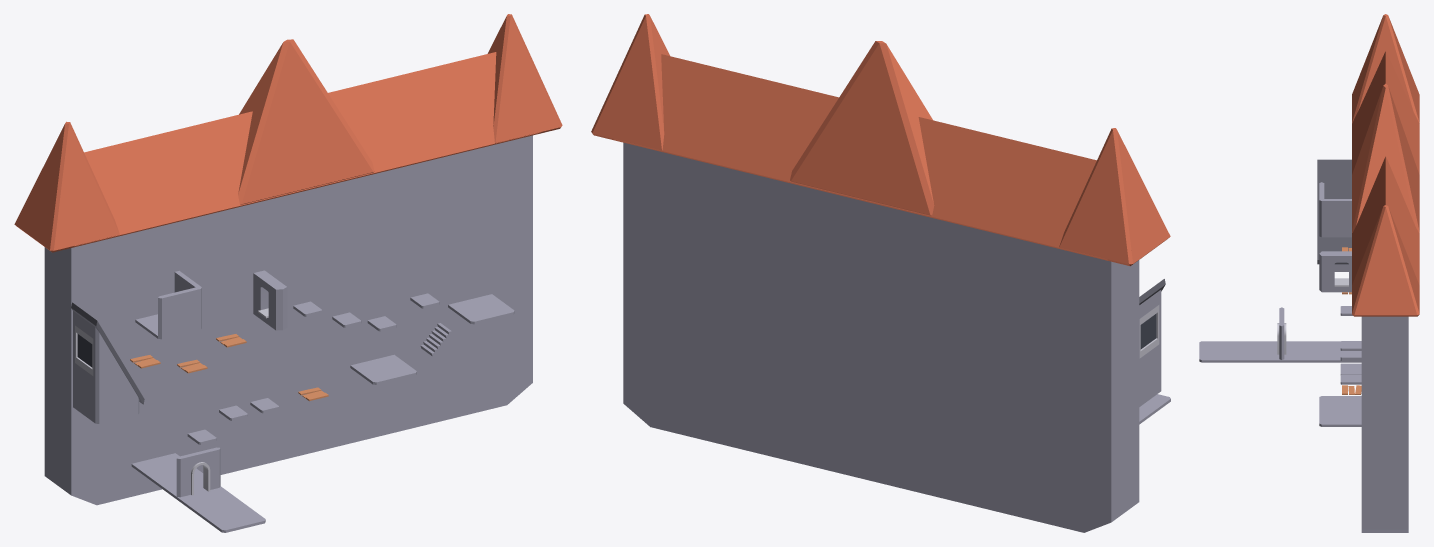
File: Castle Climb.fbx
3 views of the same model, side by side, from view 1: azimuth 30°, elevation 25°; view 2: azimuth 150°, elevation 25°; view 3: azimuth 270°, elevation 25° (orthographic). The views are drawn at different scales.
Parts seen in each view (by area): view 1: floor_square_9, roof_straight_11, roof_point_19, roof_point_17, roof_point_18, roof_factorySlant_33, wall_corner_38, wall_windowSquare_31, wall_doorwayRound_5, floor_square_1, floor_square_26, floor_square_24 (+2 smaller); view 2: floor_square_9, roof_straight_11, roof_point_19, roof_point_17, roof_point_18, roof_factorySlant_33; view 3: floor_square_9, roof_straight_11, roof_point_18, roof_point_19, roof_point_17, roof_factorySlant_33, wall_corner_38, wall_windowSquare_31, floor_square_1, floor_square_26, floor_square_6, floor_square_2 (+3 smaller).
Part boxes in pixels (bbox=[...]): floor_square_9: bbox=[44, 135, 532, 505]; roof_straight_11: bbox=[73, 52, 540, 247]; roof_point_19: bbox=[238, 39, 374, 204]; roof_point_17: bbox=[14, 121, 119, 252]; roof_point_18: bbox=[487, 14, 562, 143]; roof_factorySlant_33: bbox=[71, 302, 144, 423]; wall_corner_38: bbox=[158, 270, 201, 338]; wall_windowSquare_31: bbox=[253, 270, 287, 330]; wall_doorwayRound_5: bbox=[176, 447, 220, 497]; floor_square_1: bbox=[199, 502, 265, 532]; floor_square_26: bbox=[448, 294, 514, 324]; floor_square_24: bbox=[350, 354, 416, 384]; floor_square_9: bbox=[623, 142, 1139, 532]; roof_straight_11: bbox=[614, 54, 1107, 260]; roof_point_19: bbox=[790, 41, 934, 215]; roof_point_17: bbox=[1059, 128, 1170, 266]; roof_point_18: bbox=[591, 14, 669, 150]; roof_factorySlant_33: bbox=[1139, 279, 1165, 406]; floor_square_9: bbox=[1361, 316, 1408, 532]; roof_straight_11: bbox=[1352, 51, 1419, 284]; roof_point_18: bbox=[1352, 205, 1419, 316]; roof_point_19: bbox=[1352, 83, 1419, 232]; roof_point_17: bbox=[1352, 14, 1419, 123]; roof_factorySlant_33: bbox=[1317, 159, 1351, 271]; wall_corner_38: bbox=[1319, 182, 1351, 236]; wall_windowSquare_31: bbox=[1319, 251, 1351, 292]; floor_square_1: bbox=[1199, 341, 1244, 362]; floor_square_26: bbox=[1319, 405, 1361, 426]; floor_square_6: bbox=[1281, 341, 1324, 362]; floor_square_2: bbox=[1239, 341, 1281, 362].
Size of the model in its own units: 131 by 98.95 by 55.1.
